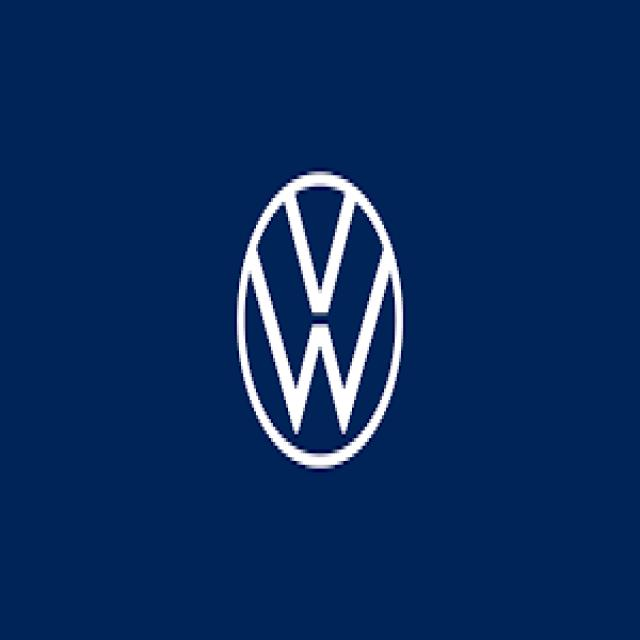wolksvogen: (231, 165, 408, 474)
